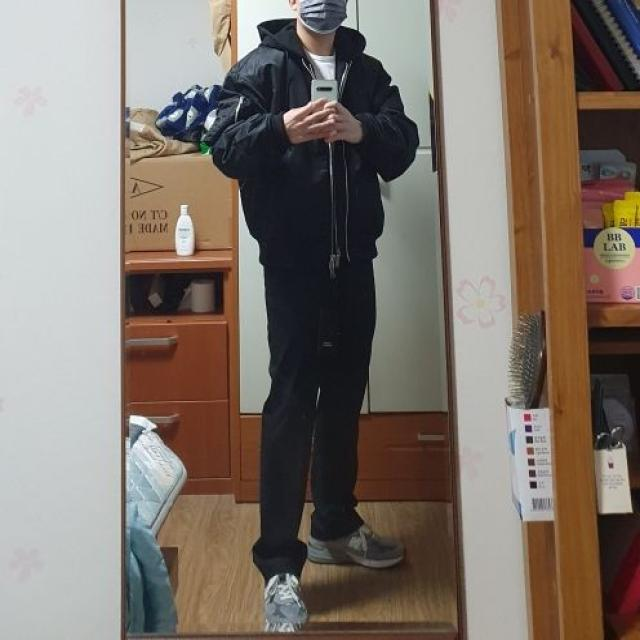jacket: (214, 15, 423, 266)
slacks: (256, 257, 378, 577)
